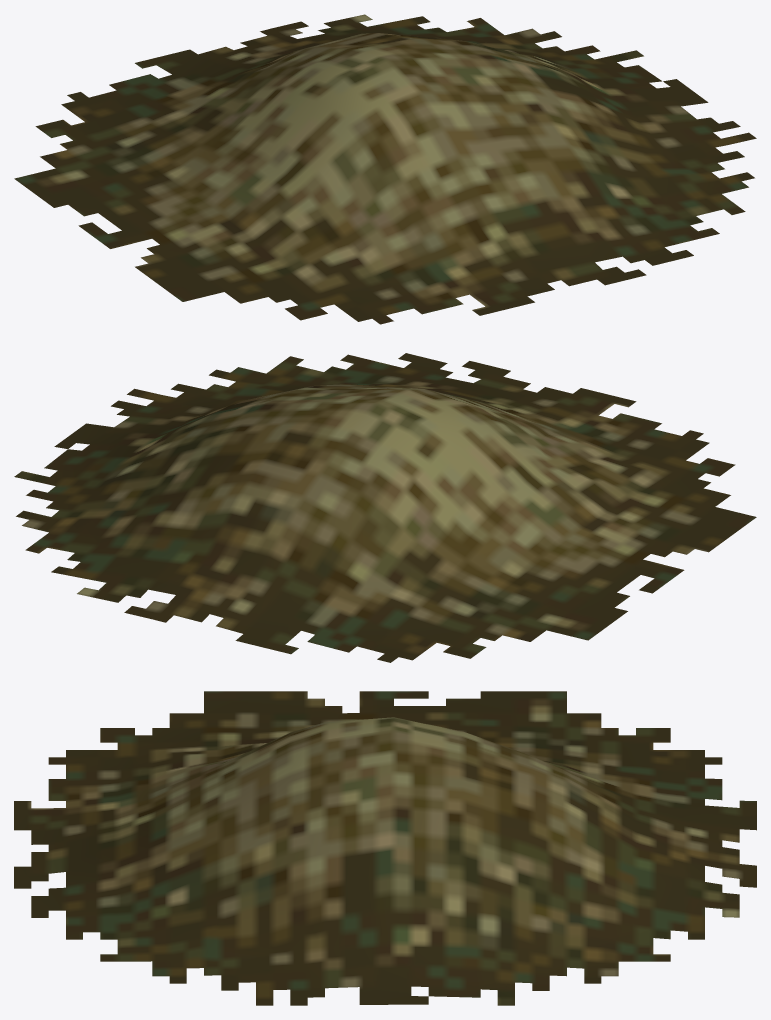
The model's file is ObjMD_Cemetery_GroundCover_A.FBX.
3 views of the same model, one above another, from view 1: azimuth 30°, elevation 25°; view 2: azimuth 150°, elevation 25°; view 3: azimuth 270°, elevation 25° (orthographic). The views are drawn at different scales.
Parts seen in each view (by area): view 1: ObjMD_Cemetery_GroundCover_A; view 2: ObjMD_Cemetery_GroundCover_A; view 3: ObjMD_Cemetery_GroundCover_A.
Part boxes in pixels (x1,y1,x2,y2): ObjMD_Cemetery_GroundCover_A: (14, 14, 756, 324); ObjMD_Cemetery_GroundCover_A: (14, 353, 756, 662); ObjMD_Cemetery_GroundCover_A: (14, 691, 756, 1005).
Bounding box in the file's own units: 269 × 45.88 × 269.
